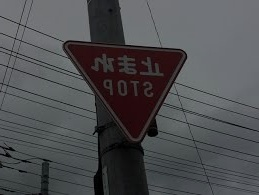Regulatory_sign_triangle: (65, 35, 195, 147)
